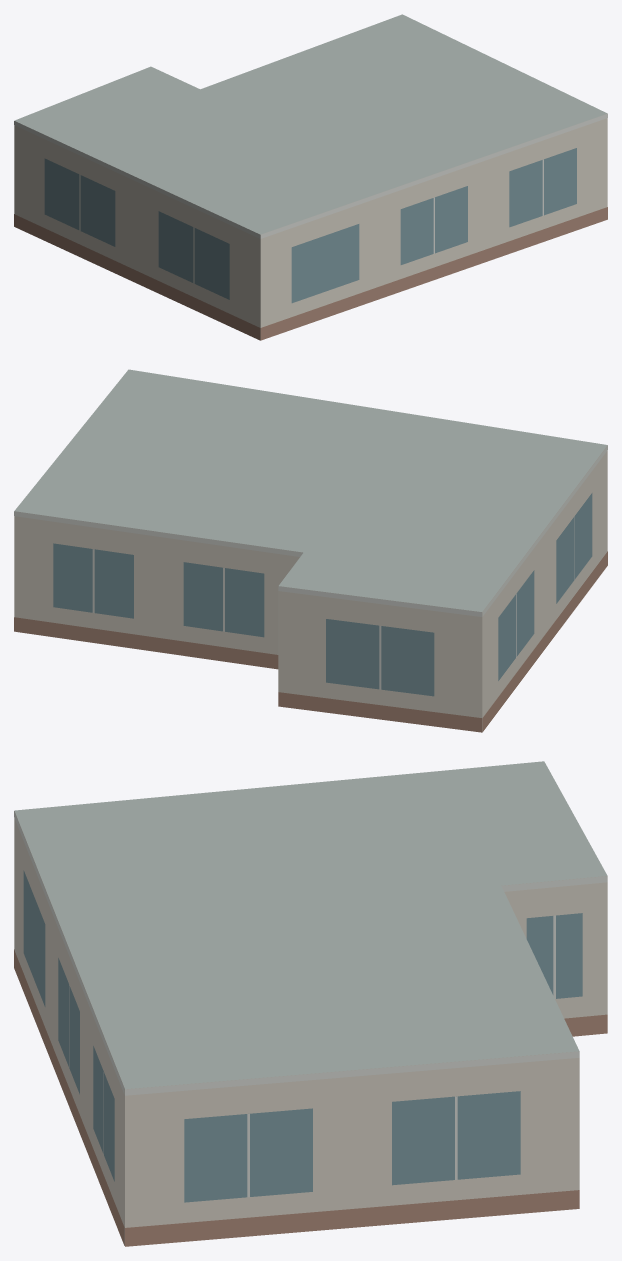
The model's file is survey-upis-32619628.glb.
3 views of the same model, one above another, from view 1: azimuth 30°, elevation 25°; view 2: azimuth 150°, elevation 25°; view 3: azimuth 270°, elevation 25° (orthographic). The views are drawn at different scales.
Visible parts, largest first — view 1: survey-upis-32619628.tmp; view 2: survey-upis-32619628.tmp; view 3: survey-upis-32619628.tmp.
Boxes of the visible parts, x1,y1,x2,y2 form: survey-upis-32619628.tmp: [14, 14, 607, 340]; survey-upis-32619628.tmp: [14, 369, 607, 732]; survey-upis-32619628.tmp: [14, 761, 607, 1246].
Size of the model in its own units: 13.64 by 3.05 by 10.43.
